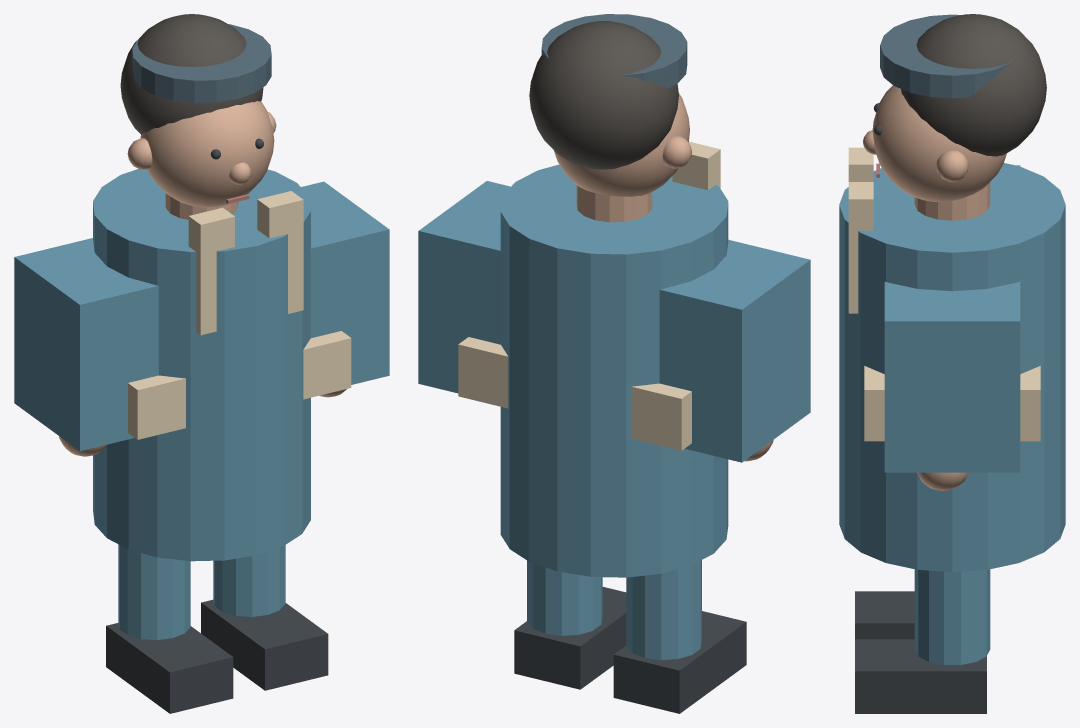
The model's file is attendant.glb.
The picture shows the model from 3 angles, left to right: view 1: azimuth 30°, elevation 25°; view 2: azimuth 150°, elevation 25°; view 3: azimuth 270°, elevation 25°; orthographic projection. The views are drawn at different scales.
Parts seen in each view (by area): view 1: robe torso, left_sleeve, right_sleeve, face, left_sandal, hair cap, right_sandal, obi belt, left_leg, staff cap, right_leg, robe collar left (+3 smaller); view 2: robe torso, left_sleeve, hair cap, right_sleeve, left_sandal, obi belt, left_leg, right_sandal, right_leg, face, staff cap, neck (+2 smaller); view 3: robe torso, right_sleeve, hair cap, right_sandal, face, right_leg, staff cap, obi belt, left_sandal, robe collar right, neck, robe collar left (+2 smaller).
Boxes of the visible parts, <box> form: robe torso: <box>93,168,310,561</box>; left_sleeve: <box>14,238,158,451</box>; right_sleeve: <box>301,181,389,384</box>; face: <box>140,101,274,207</box>; left_sandal: <box>106,623,233,713</box>; hair cap: <box>120,14,263,134</box>; right_sandal: <box>201,599,328,690</box>; obi belt: <box>128,331,351,439</box>; left_leg: <box>118,544,190,639</box>; staff cap: <box>132,24,271,102</box>; right_leg: <box>213,545,285,616</box>; robe collar left: <box>188,207,234,335</box>; robe torso: <box>500,164,728,577</box>; left_sleeve: <box>659,239,810,462</box>; hair cap: <box>529,21,678,169</box>; right_sleeve: <box>418,181,510,393</box>; left_sandal: <box>613,611,746,713</box>; obi belt: <box>458,337,691,450</box>; left_leg: <box>626,560,701,659</box>; right_sandal: <box>514,587,626,689</box>; right_leg: <box>527,560,602,635</box>; face: <box>554,93,689,196</box>; staff cap: <box>541,14,687,88</box>; neck: <box>576,185,652,222</box>; robe torso: <box>839,163,1065,572</box>; right_sleeve: <box>884,282,1020,472</box>; hair cap: <box>901,14,1046,156</box>; right_sandal: <box>855,639,986,713</box>; face: <box>872,85,1006,201</box>; right_leg: <box>914,569,990,664</box>; staff cap: <box>880,14,1011,98</box>; obi belt: <box>864,366,1040,441</box>; left_sandal: <box>855,591,914,639</box>; robe collar right: <box>848,182,873,313</box>; neck: <box>914,182,990,220</box>; robe collar left: <box>848,147,873,181</box>.
Bounding box in the file's own units: 1.17 × 2.29 × 0.72.
